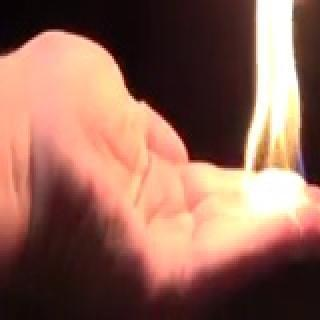fire: (197, 0, 317, 186)
